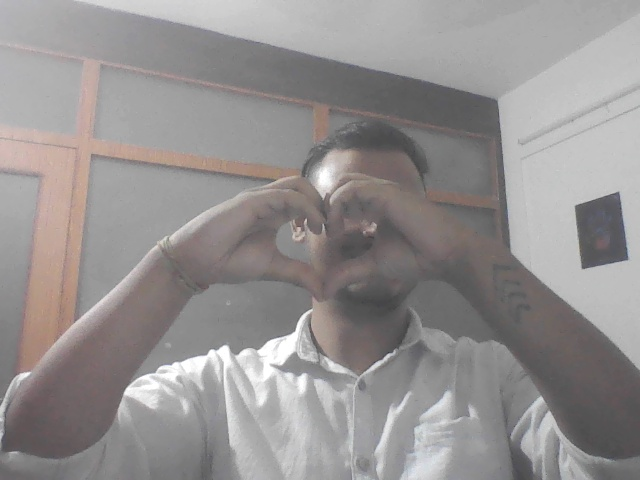Heart: (213, 172, 439, 298)
